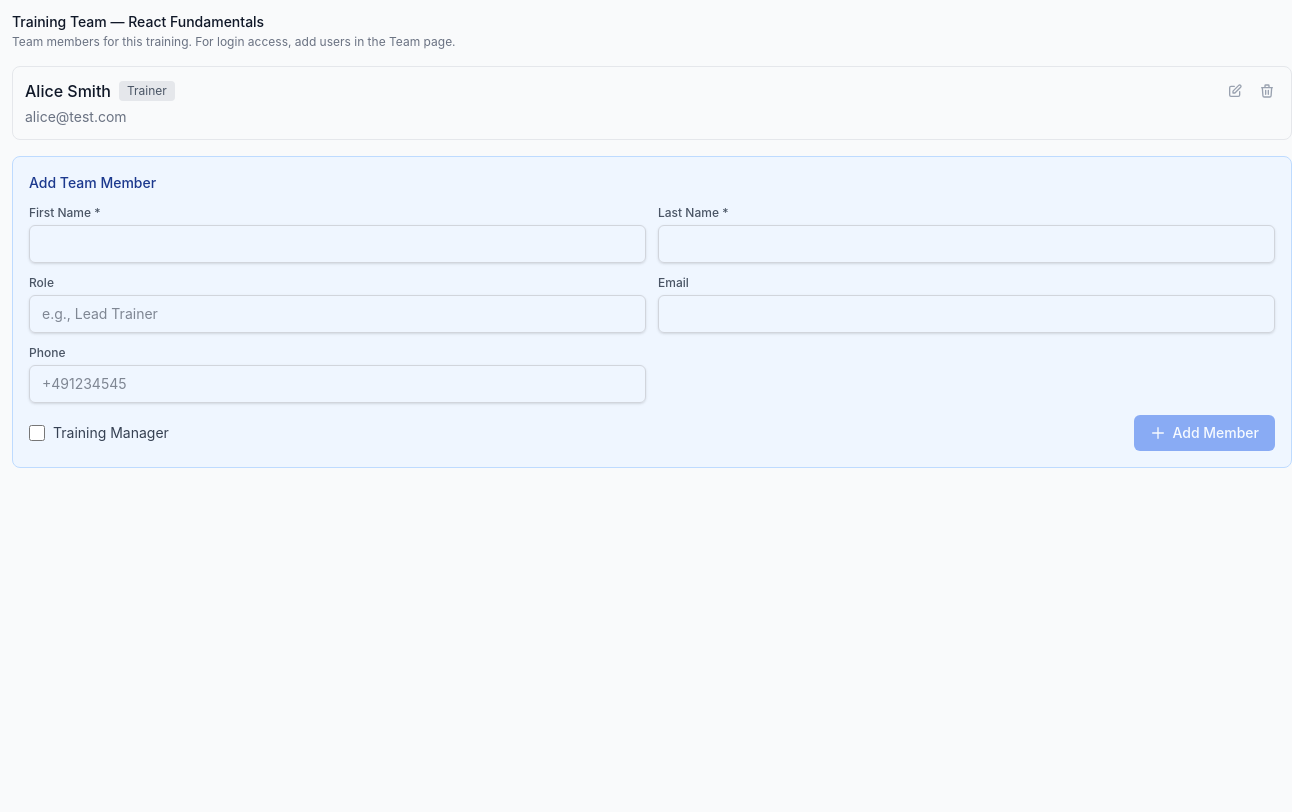
Test case: TrainingTeamTab › edit team member › shows edit form when Edit button is clicked
Click the button titled "Edit".
click(1235, 91)  # box [1223,79,1247,103]
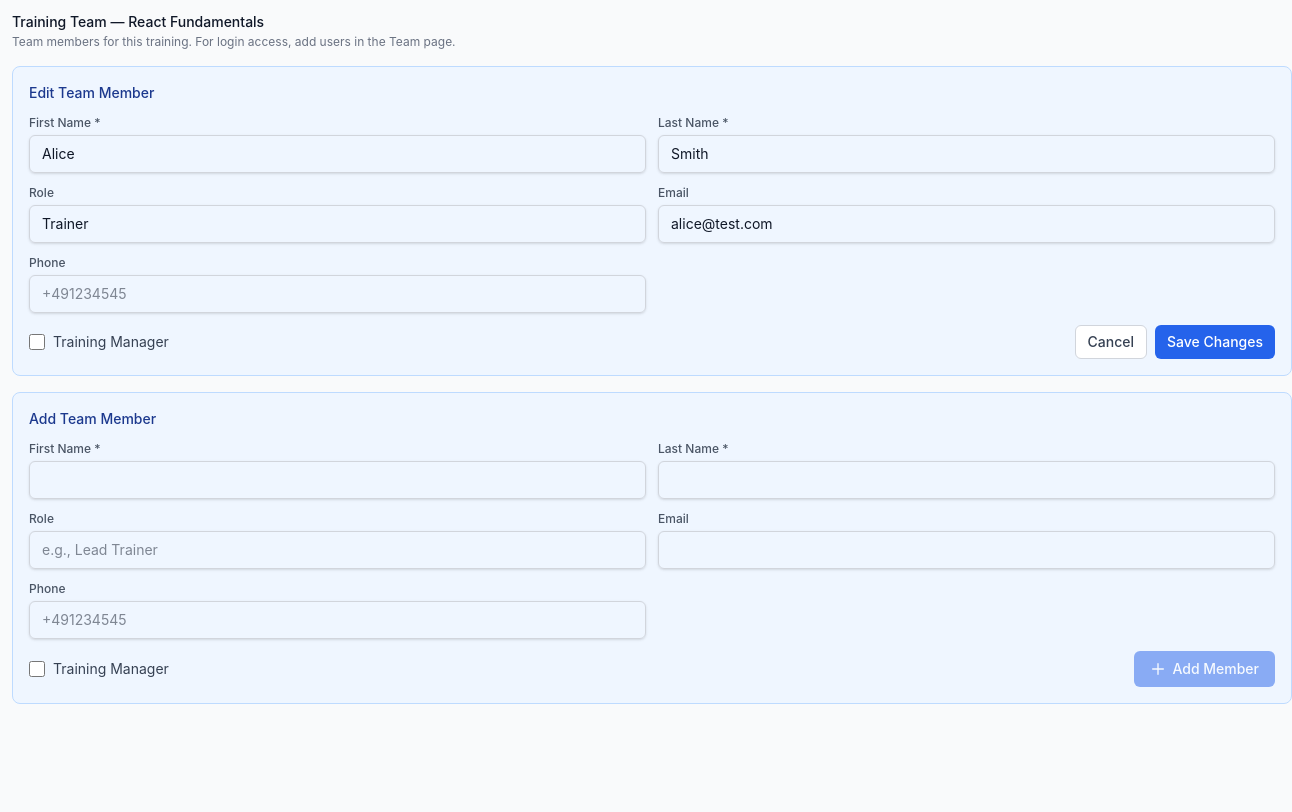
expect the heading "Edit Team Member" is shown: met, box [29,84,154,101]
expect the button "Save Changes" is shown: met, box [1155,325,1275,359]
